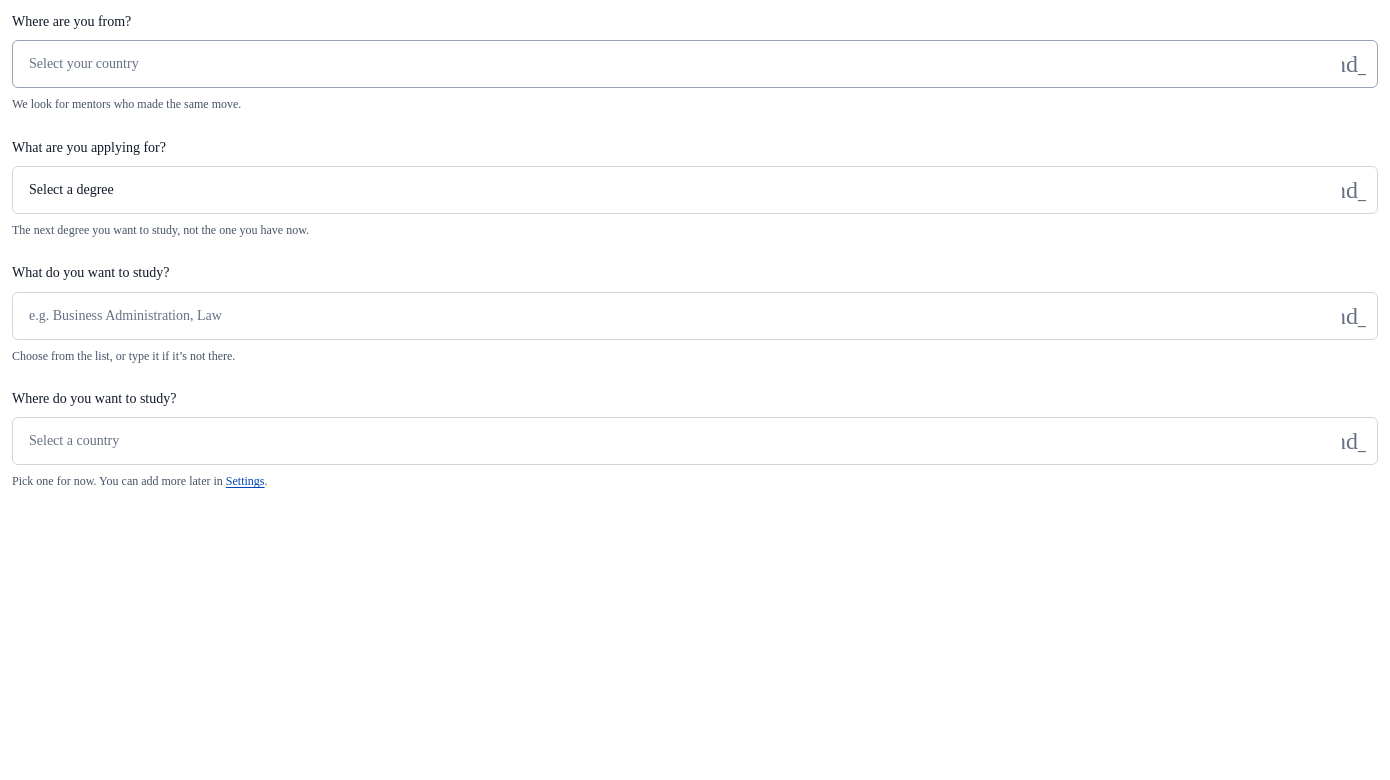
Test: StudyPlansForm › lists the design’s destinations first, then "Not sure yet", then the rest
Click the dropdown labelled "Where do you want to study?" at {"x": 695, "y": 441}, box [12,417,1378,465]
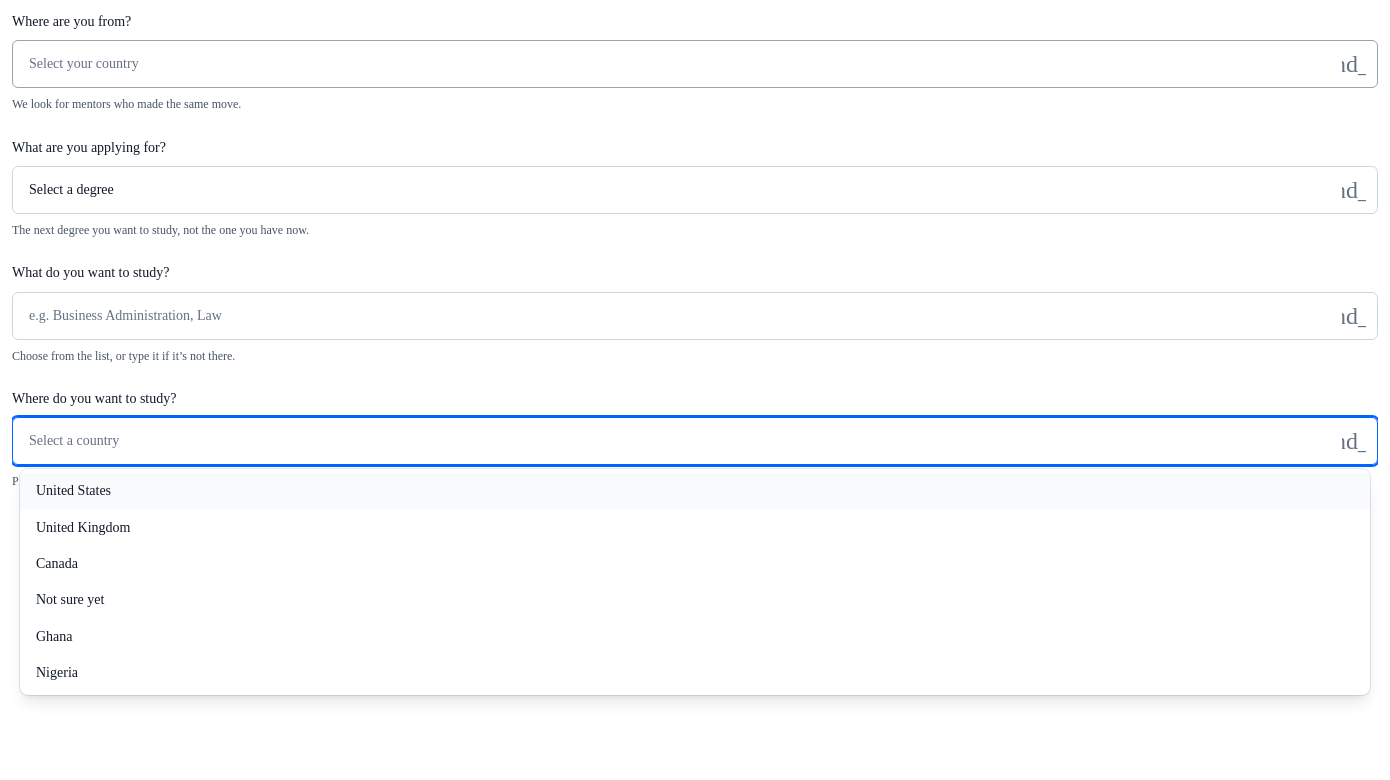
Expected: the options read "United States", "United Kingdom", "Canada", "Not sure yet", "Ghana", "Nigeria", in this order, [20,473,1370,510]; [36,520,130,535]; [36,556,78,571]; [36,592,104,607]; [36,628,72,644]; [36,665,78,680]
